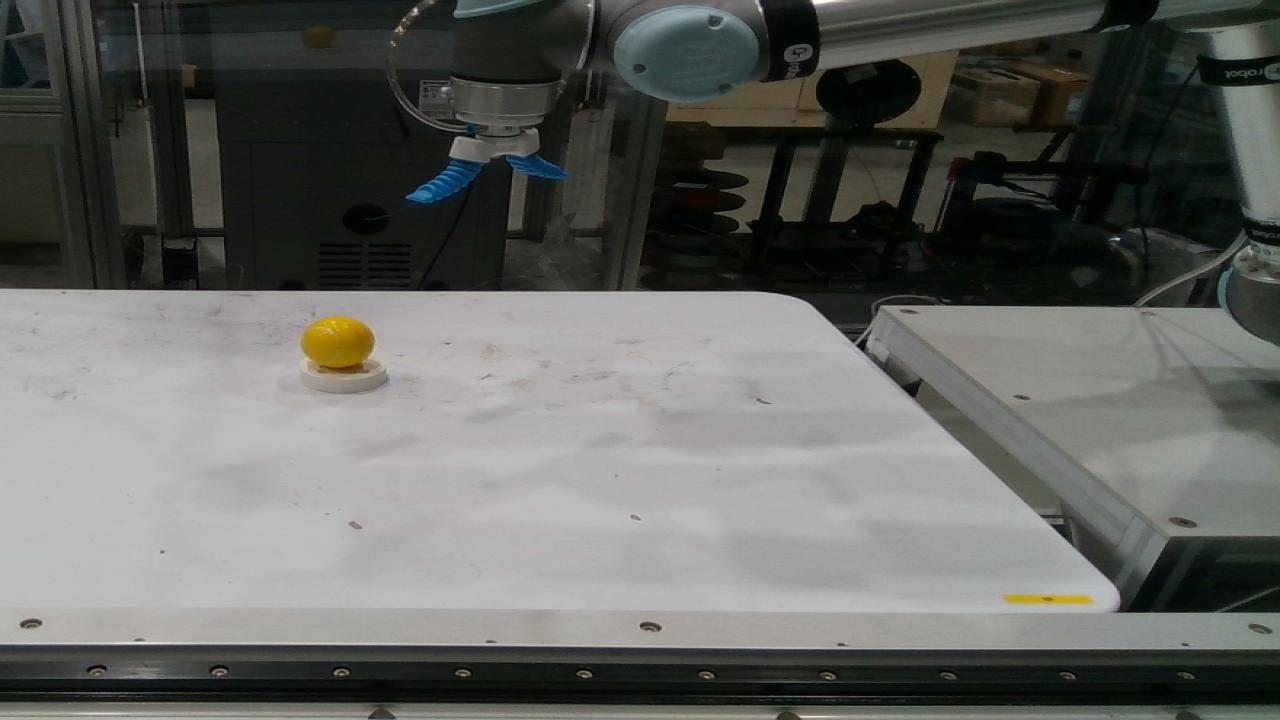UR5: (436, 1, 1279, 342)
gripper_left: (506, 152, 566, 178)
gripper_right: (406, 161, 481, 203)
target: (303, 316, 374, 370), (300, 358, 388, 392)
